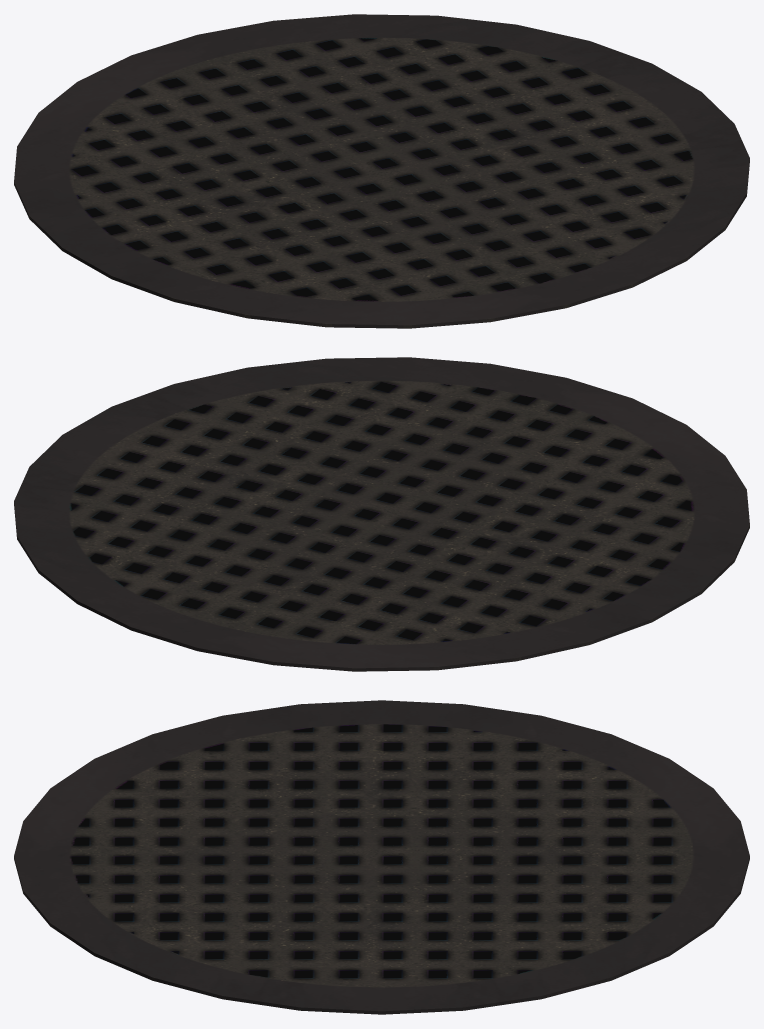
Rendered from Floor Grate Round.fbx.
3 renders of one model, top to bottom at view 1: azimuth 30°, elevation 25°; view 2: azimuth 150°, elevation 25°; view 3: azimuth 270°, elevation 25°, orthographic.
Visible parts, largest first — view 1: pCylinder1; view 2: pCylinder1; view 3: pCylinder1.
Part boxes in pixels (x1=…): pCylinder1: x1=14, y1=14, x2=749, y2=328; pCylinder1: x1=14, y1=357, x2=749, y2=671; pCylinder1: x1=14, y1=700, x2=749, y2=1014.
Size of the model in its own units: 20 by 0.1 by 20.
